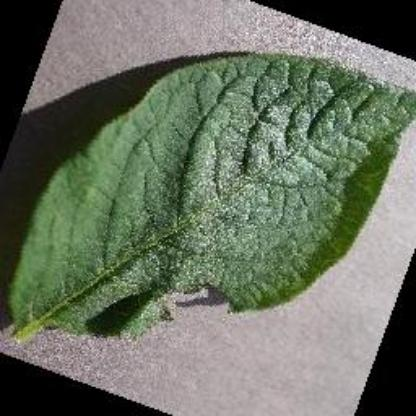Healthy-plant: (10, 47, 416, 355)
